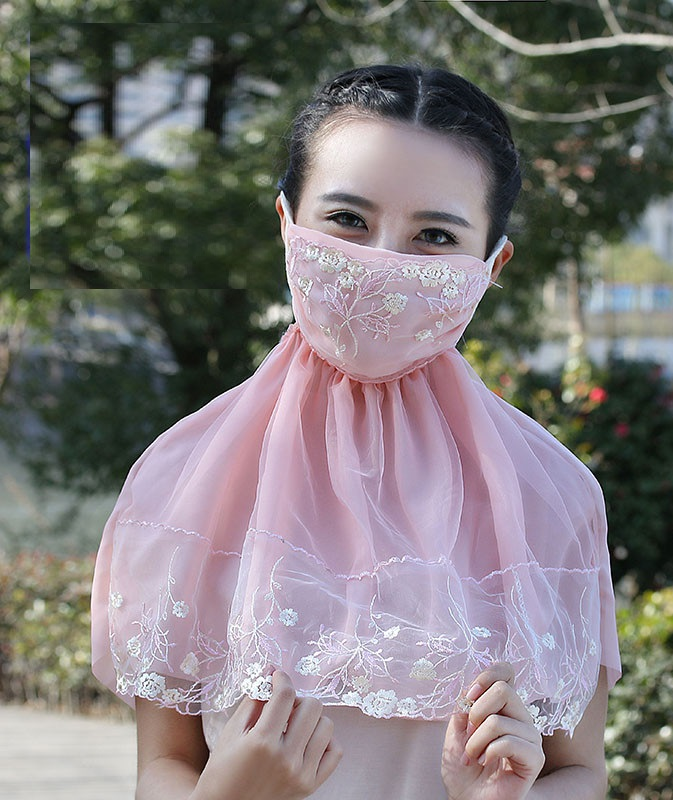face_mask: (292, 115, 488, 381)
